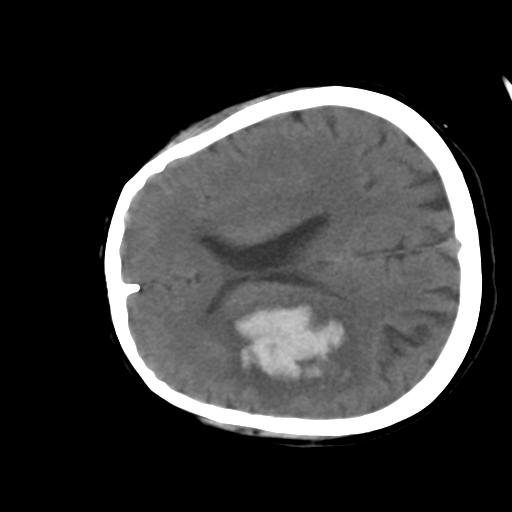a: (203, 283, 365, 418)
